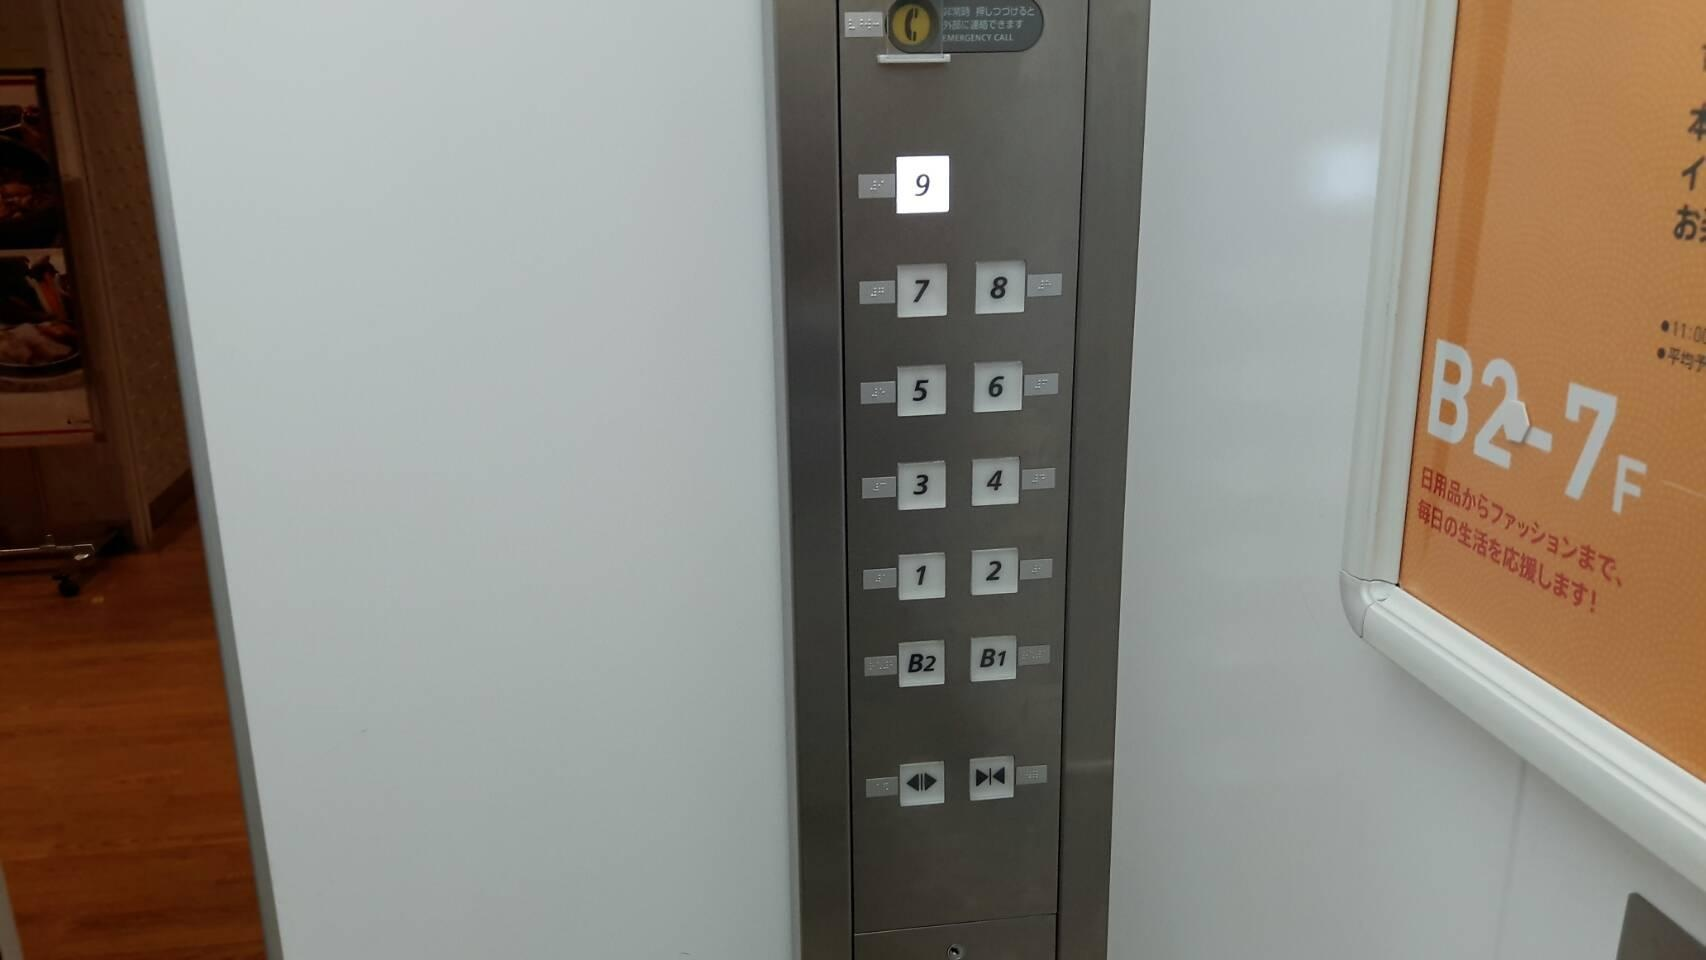1: (895, 549, 948, 602)
2: (968, 545, 1021, 597)
3: (895, 457, 948, 512)
4: (965, 454, 1022, 508)
5: (893, 362, 948, 420)
6: (970, 358, 1025, 414)
7: (894, 259, 949, 320)
8: (973, 256, 1028, 316)
9: (894, 154, 951, 216)
B1: (965, 632, 1018, 685)
B2: (896, 638, 946, 689)
call: (881, 1, 944, 53)
close: (965, 753, 1016, 802)
open: (898, 758, 947, 809)
